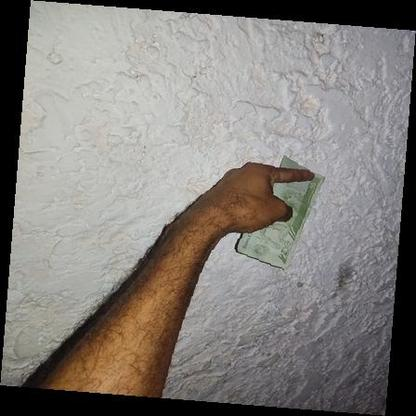fifty-back-vef: (235, 154, 326, 270)
